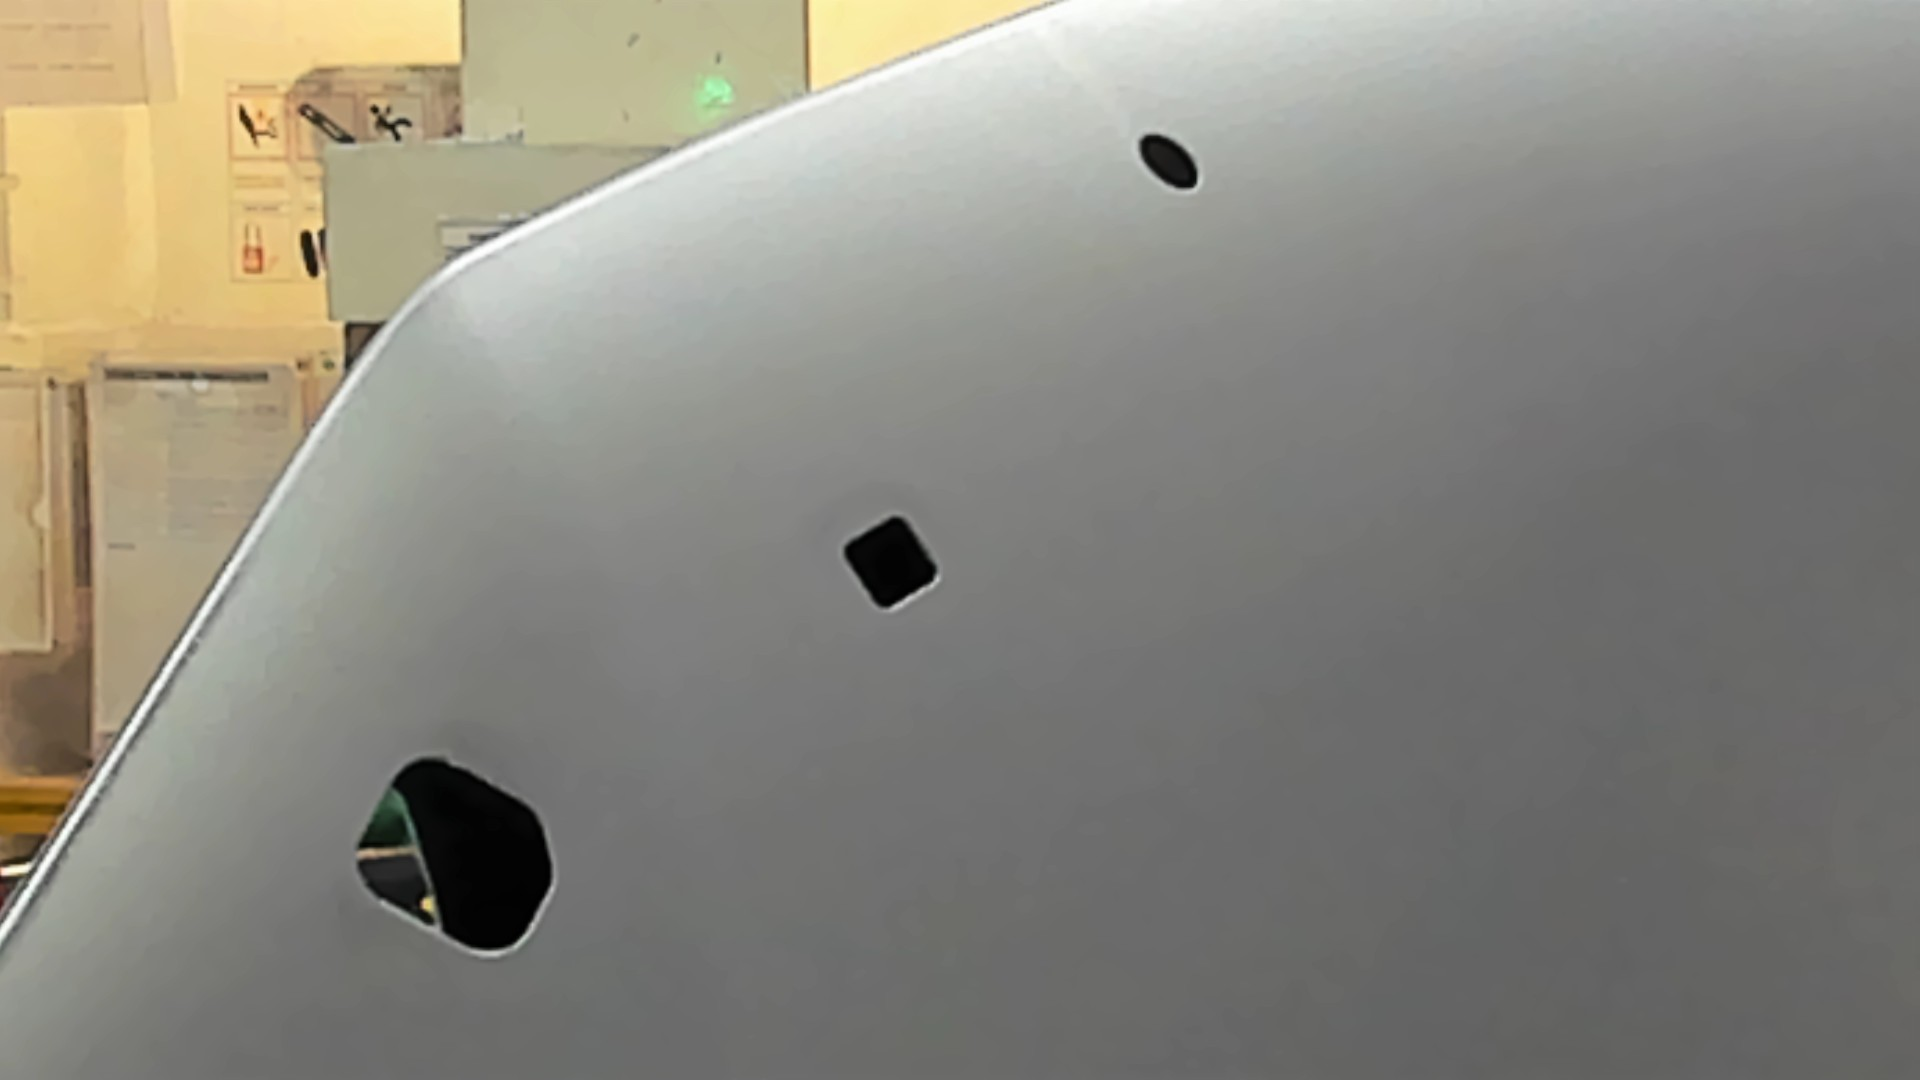chico: (1127, 119, 1215, 208)
grande: (324, 736, 582, 978)
mediano: (829, 502, 961, 626)
